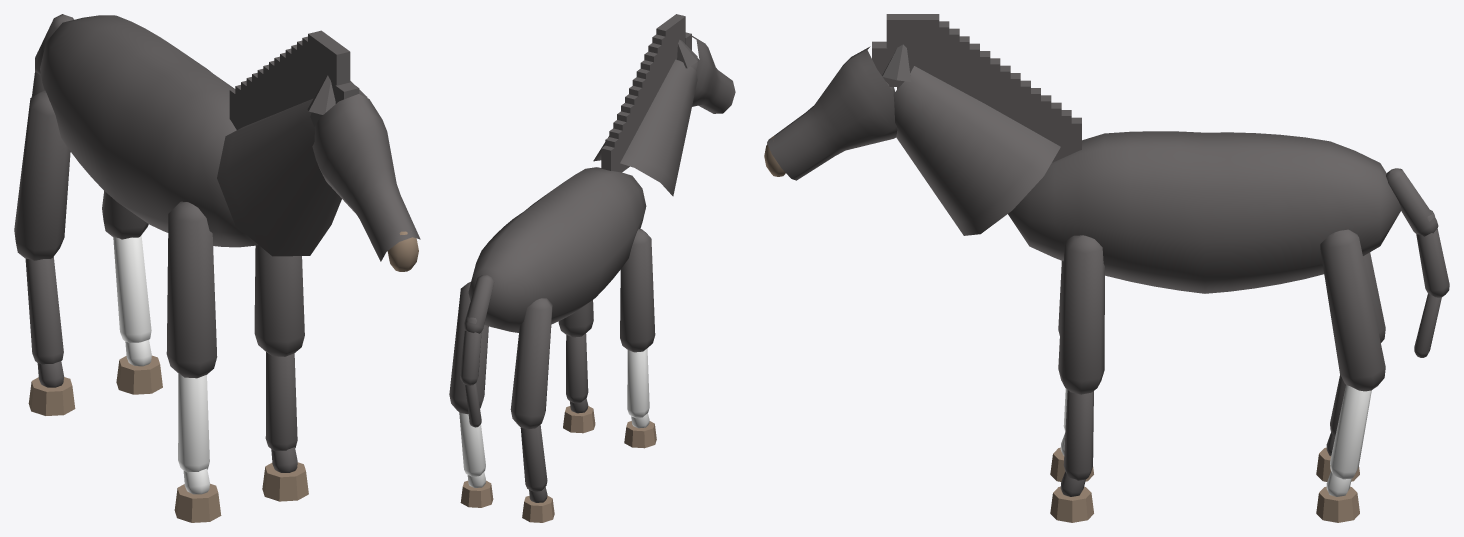
The model's file is pony-standing-black.glb.
3 renders of one model, left to right at view 1: azimuth 30°, elevation 25°; view 2: azimuth 150°, elevation 25°; view 3: azimuth 270°, elevation 25°, orthographic. The views are drawn at different scales.
Parts seen in each view (by area): view 1: pony-standing-black; view 2: pony-standing-black; view 3: pony-standing-black.
Boxes of the visible parts, <box> form: pony-standing-black: <box>14,14,420,522</box>; pony-standing-black: <box>449,14,735,522</box>; pony-standing-black: <box>764,14,1449,522</box>.
Bounding box in the file's own units: 0.4537 × 1.71 × 2.22.
